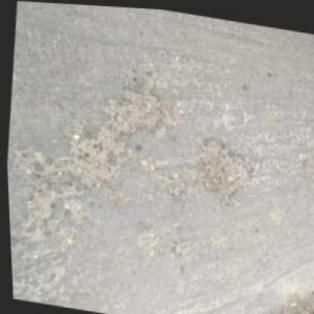Hueco: (61, 124, 133, 198), (188, 132, 256, 209), (97, 80, 166, 140)
